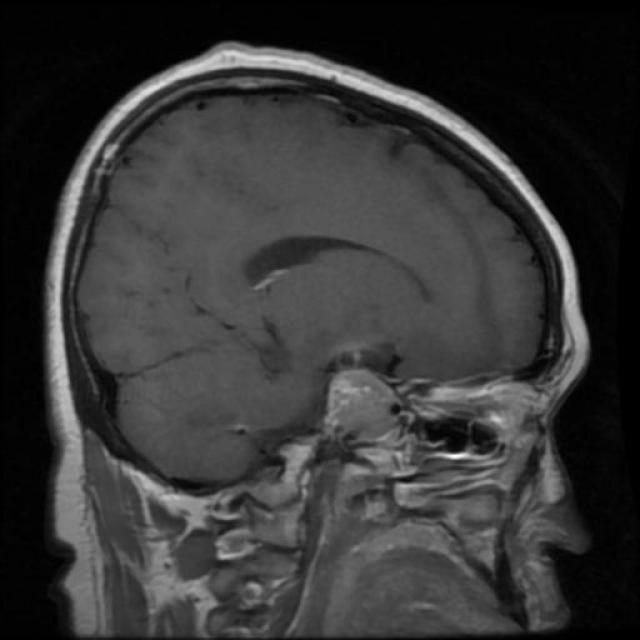pituitary: (311, 353, 407, 448)
